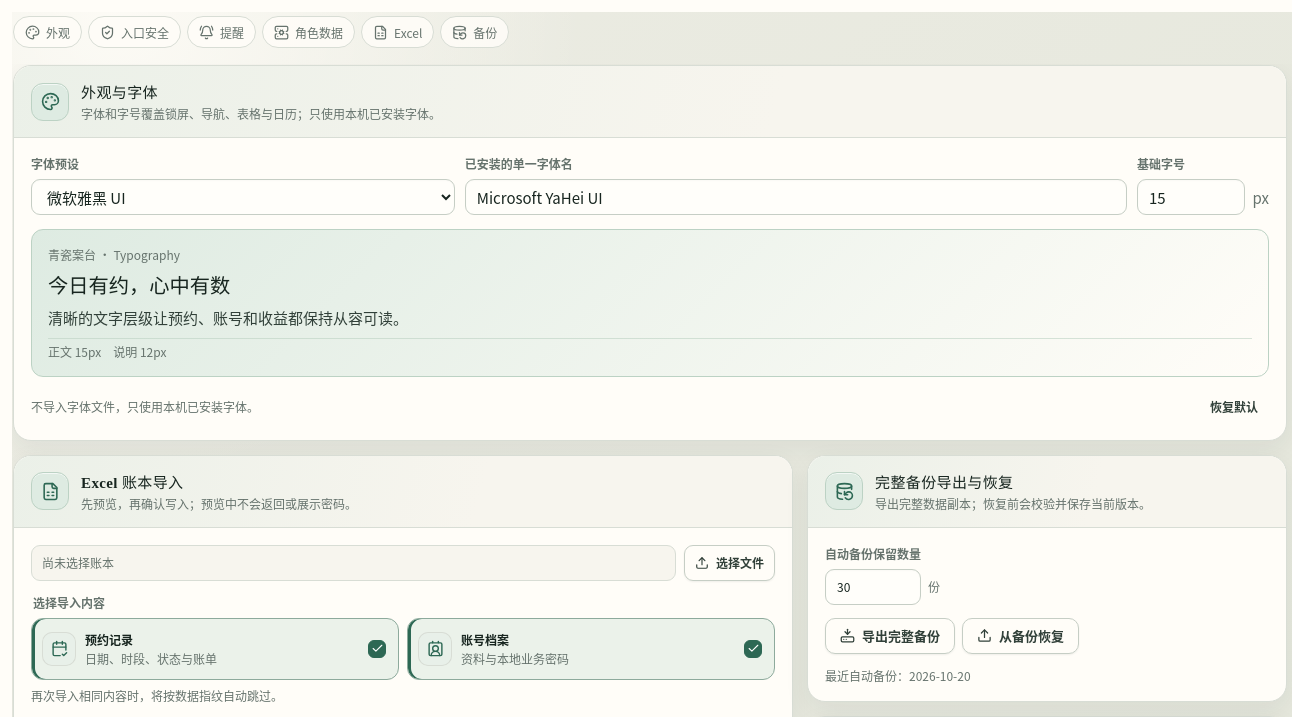
Scenario: SettingsWorkspace operation progress › marks YY channels as excluded when appointment import is disabled
Step 1. Click the checkbox named "导入预约记录" → (215, 649), box [31,618,399,680]
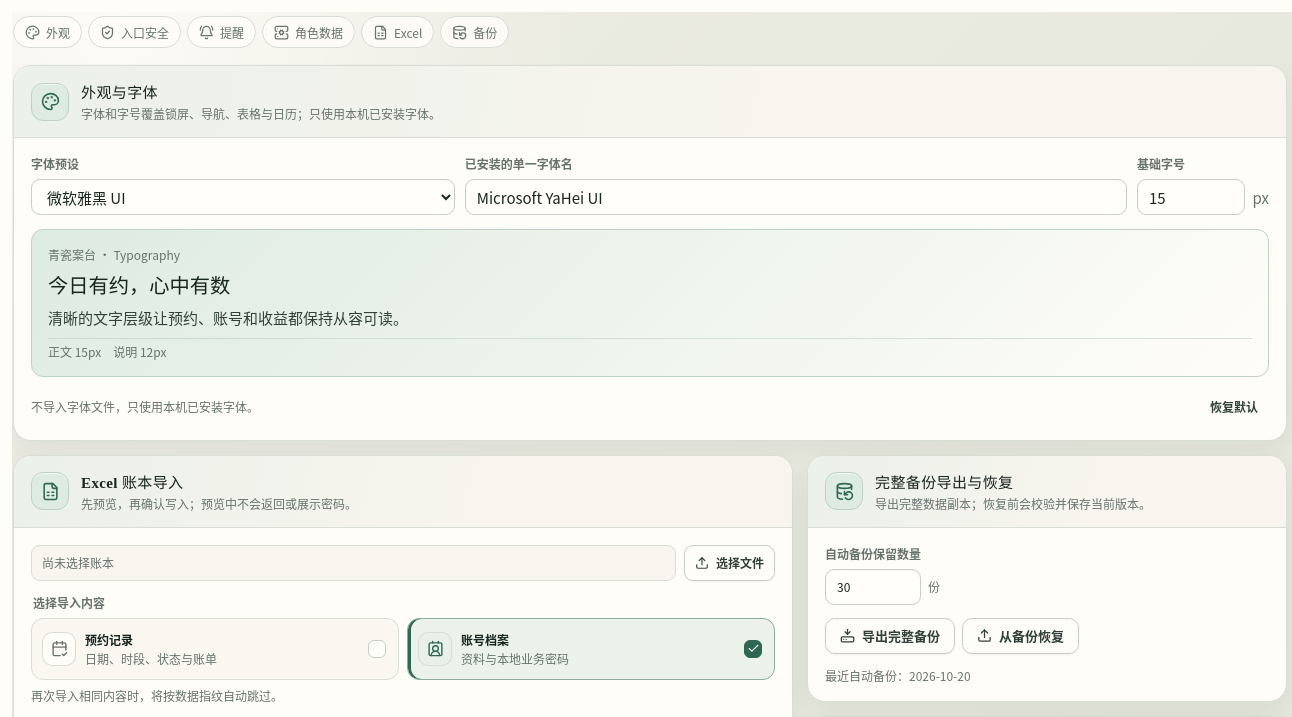
Step 2. Click the button "选择文件" → (730, 563), box [684,545,775,581]
(page scrolled)
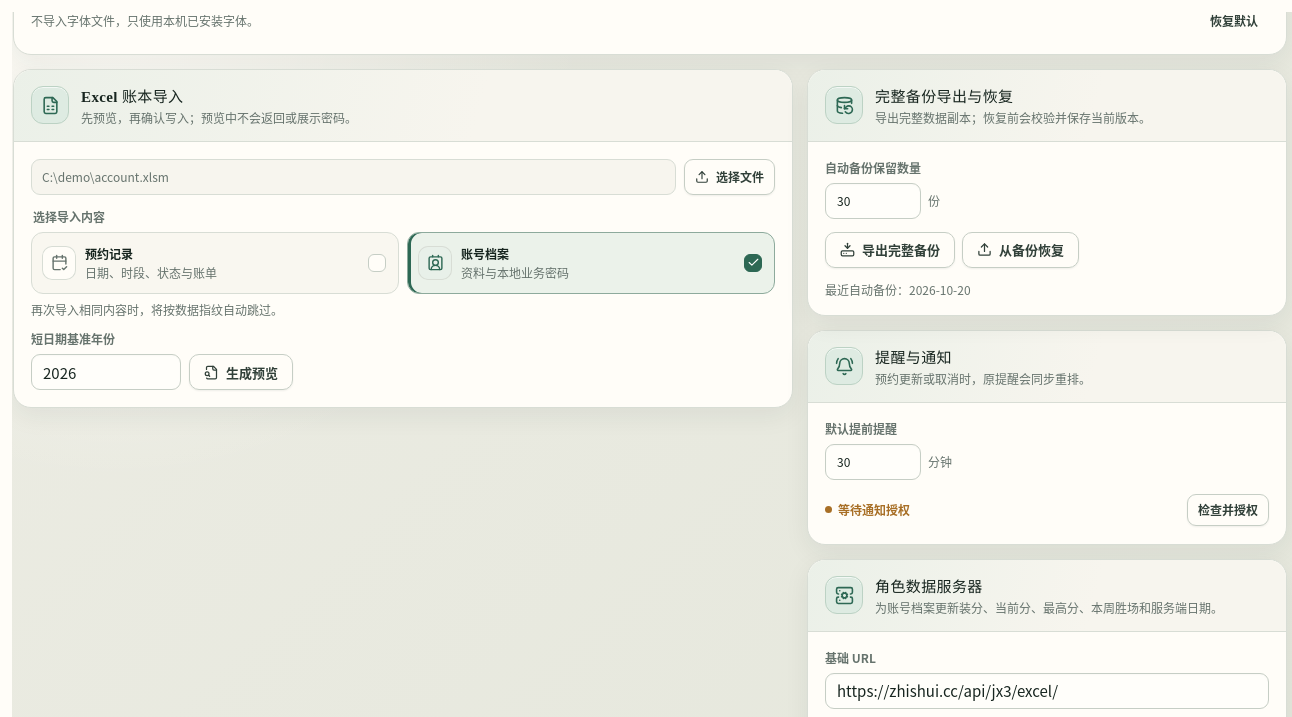
Step 3. Click the button "生成预览" → (241, 372), box [189,354,293,390]
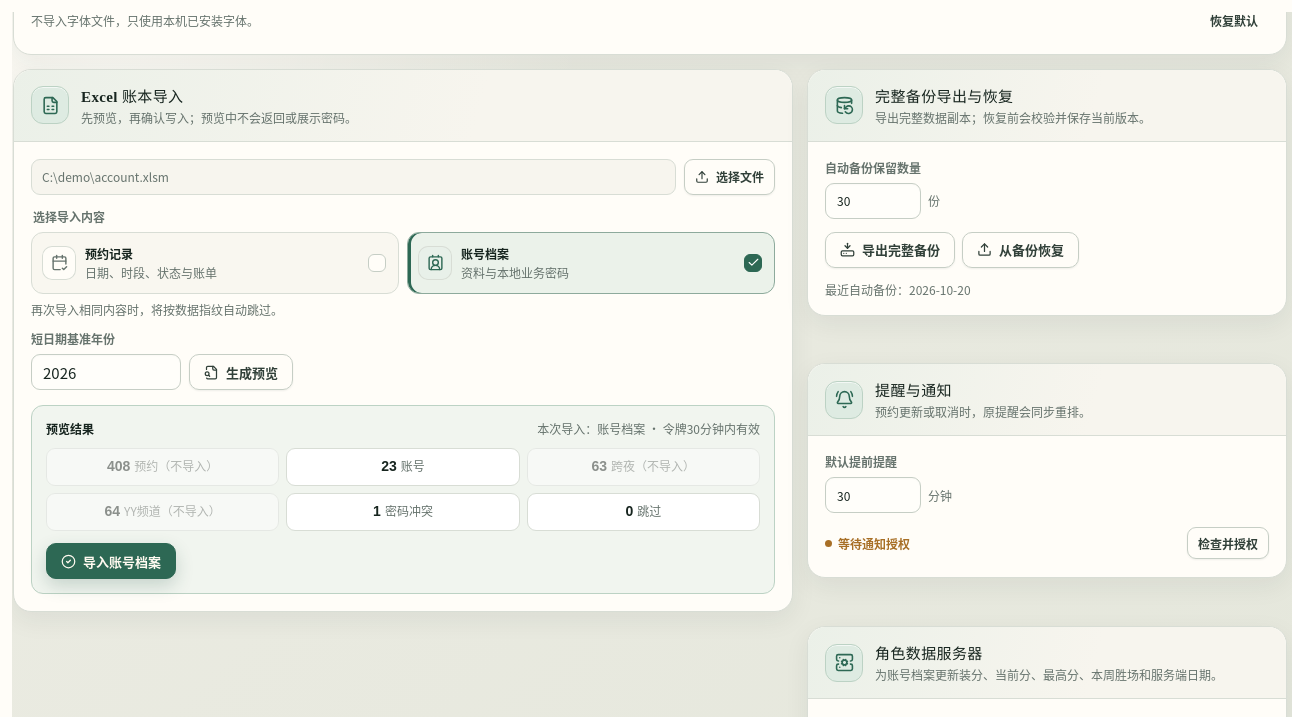
Expected: the element showing "64 YY频道（不导入）" is shown, [46,493,279,531]
